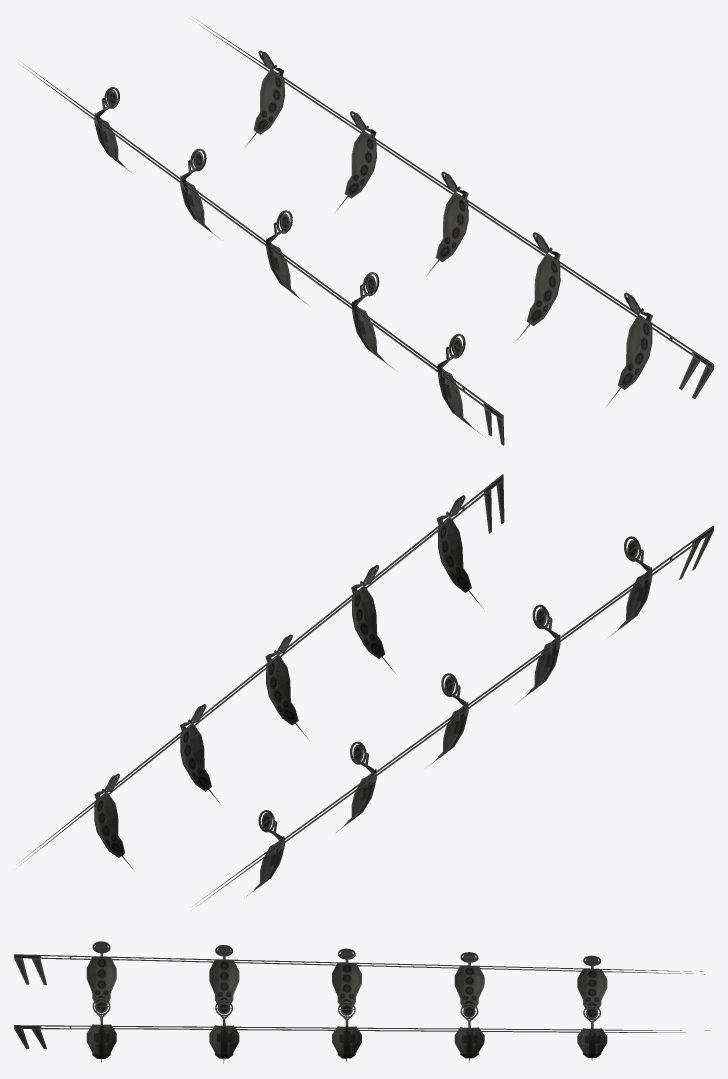
File: AccelerationGate.obj
3 renders of one model, top to bottom at view 1: azimuth 30°, elevation 25°; view 2: azimuth 150°, elevation 25°; view 3: azimuth 270°, elevation 25°, orthographic. The views are drawn at different scales.
Visible parts, largest first — view 1: Plane008; view 2: Plane008; view 3: Plane008.
Part boxes in pixels (x1,y1,x2,y2): Plane008: (22, 20, 713, 445); Plane008: (19, 474, 713, 906); Plane008: (14, 941, 710, 1063).
Bounding box in the file's own units: 195 × 94.57 × 796.
1 material, 1 textured.
